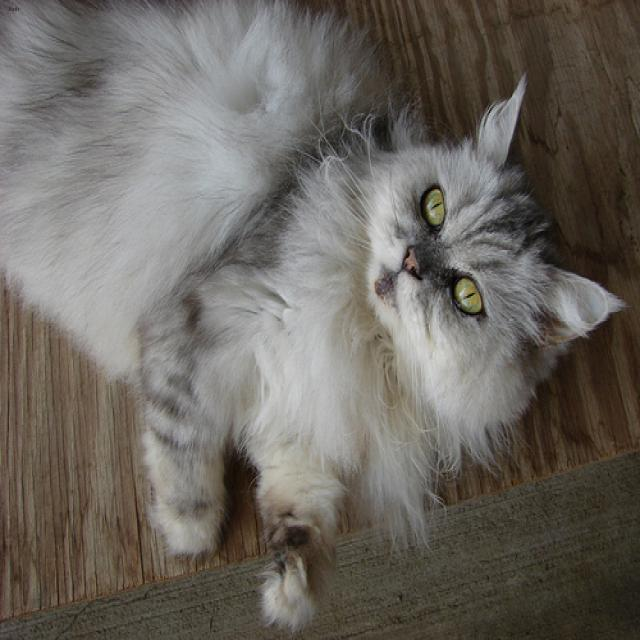Persian: (366, 75, 618, 366)
